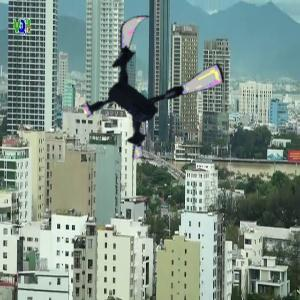drone: (81, 15, 224, 158)
